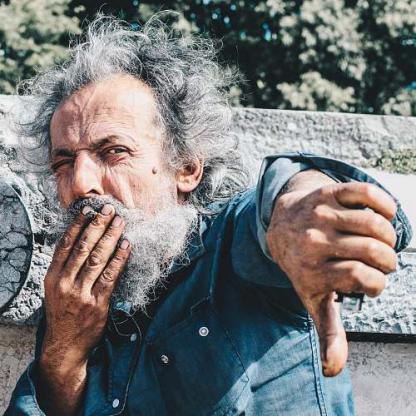Thumbs Down: (257, 149, 392, 378)
